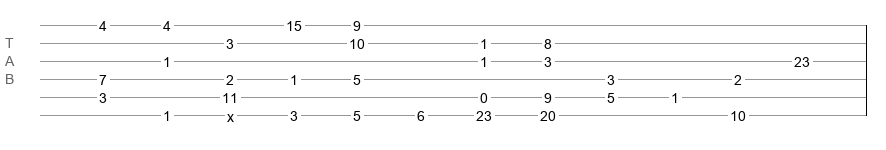0: (480, 90, 488, 100)
1: (163, 108, 171, 118), (163, 54, 171, 64), (290, 72, 298, 82), (480, 36, 488, 46), (480, 54, 488, 64), (671, 90, 679, 100)
10: (349, 36, 365, 46), (730, 108, 746, 118)
11: (222, 90, 238, 100)
15: (286, 18, 302, 28)
2: (226, 72, 234, 82), (734, 72, 742, 82)
20: (540, 108, 556, 118)
23: (476, 108, 492, 118), (794, 54, 810, 64)
3: (99, 90, 107, 100), (226, 36, 234, 46), (290, 108, 298, 118), (544, 54, 552, 64), (607, 72, 615, 82)
4: (99, 18, 107, 28), (163, 18, 171, 28)
5: (353, 72, 361, 82), (353, 108, 361, 118), (607, 90, 615, 100)
6: (417, 108, 425, 118)
7: (99, 72, 107, 82)
8: (544, 36, 552, 46)
9: (353, 18, 361, 28), (544, 90, 552, 100)
x: (227, 109, 234, 117)
